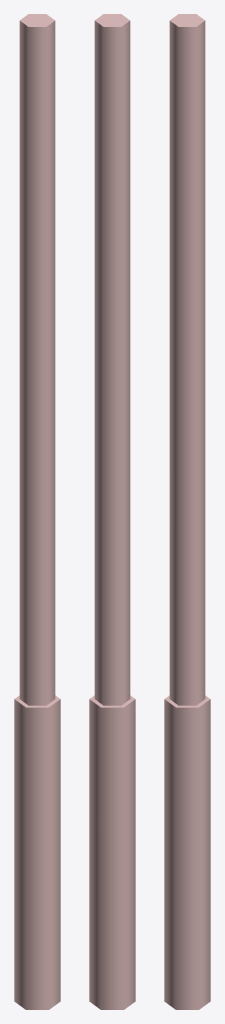
File: Pillar_02.fbx
The picture shows the model from 3 angles, left to right: view 1: azimuth 30°, elevation 25°; view 2: azimuth 210°, elevation 25°; view 3: azimuth 330°, elevation 25°; orthographic projection.
Parts seen in each view (by area): view 1: Pillar_02; view 2: Pillar_02; view 3: Pillar_02.
Part boxes in pixels (box(x1,y1,x2,y2)): Pillar_02: box(14, 14, 60, 1009); Pillar_02: box(89, 14, 135, 1009); Pillar_02: box(164, 14, 210, 1009).
Size of the model in its own units: 0.4104 by 11.11 by 0.4739.
